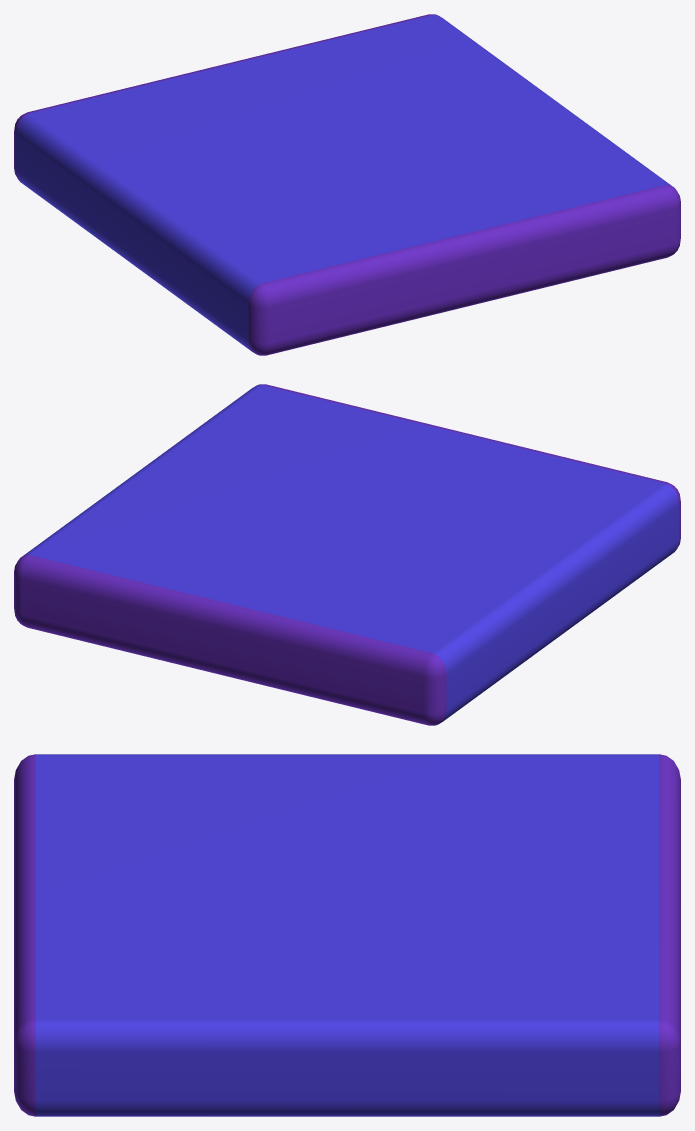
The model's file is Building_021_e.fbx.
3 renders of one model, top to bottom at view 1: azimuth 30°, elevation 25°; view 2: azimuth 150°, elevation 25°; view 3: azimuth 270°, elevation 25°, orthographic. The views are drawn at different scales.
Parts seen in each view (by area): view 1: Building_021_e; view 2: Building_021_e; view 3: Building_021_e.
Part boxes in pixels (x1,y1,x2,y2): Building_021_e: [14, 14, 680, 355]; Building_021_e: [14, 384, 680, 725]; Building_021_e: [14, 754, 680, 1116].
Bounding box in the file's own units: 16.32 × 2.59 × 16.32.
